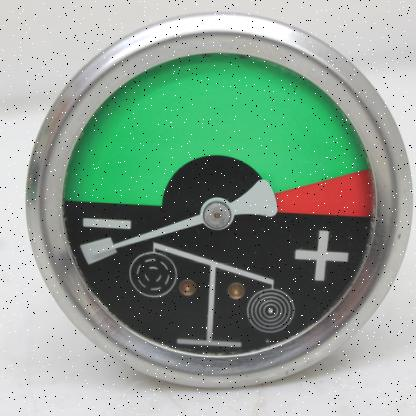needle: (86, 213, 203, 257)
